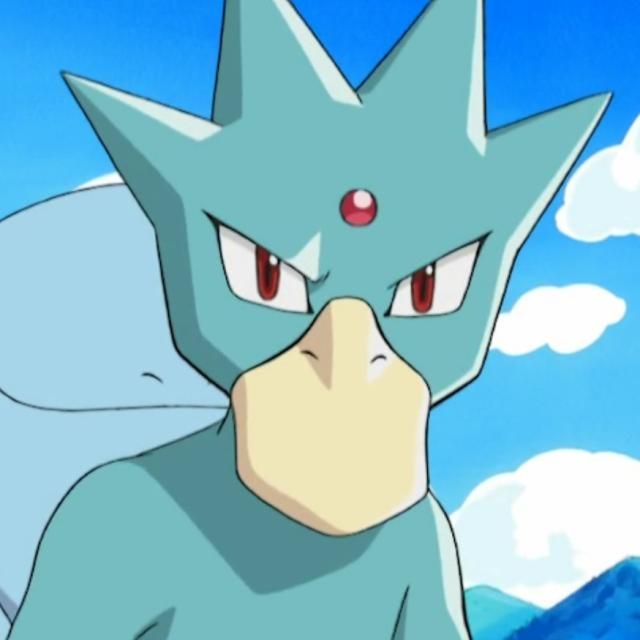Golduck: (37, 0, 598, 640)
